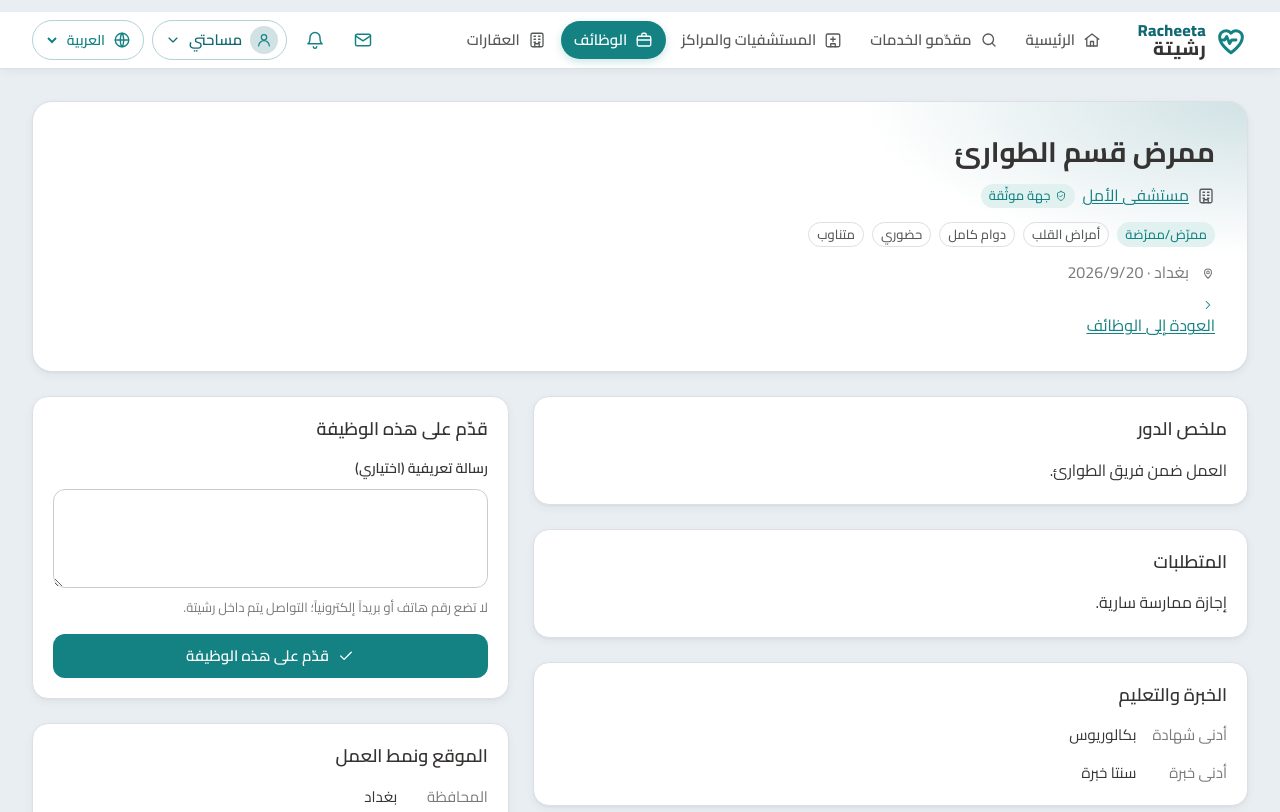
JobDetailPage › renders the localized usage-limit error as a form error
Click the button "قدّم على هذه الوظيفة" at (270, 656), box left=53, top=634, right=488, bottom=678
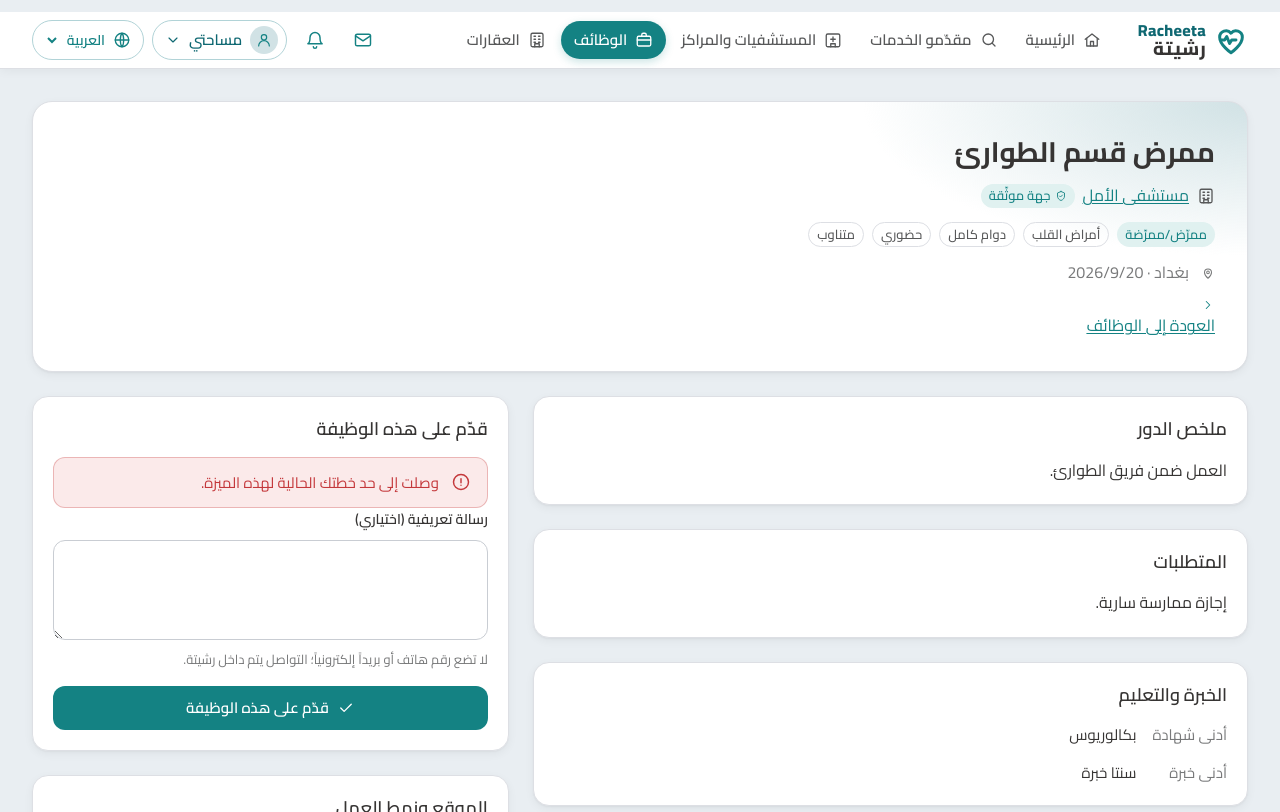
Result: the message reads "وصلت إلى حد خطتك الحالية لهذه الميزة." at left=201, top=468, right=439, bottom=497
